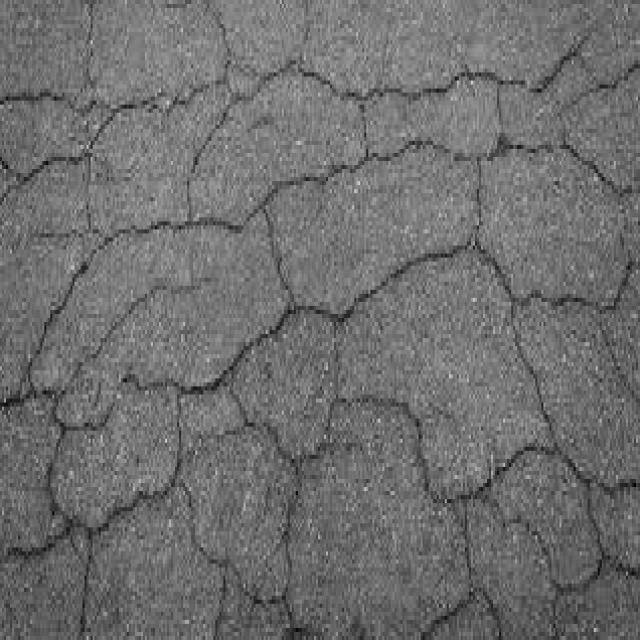Crack: (12, 92, 169, 548), (181, 97, 376, 434), (431, 44, 624, 326), (497, 426, 596, 600)
